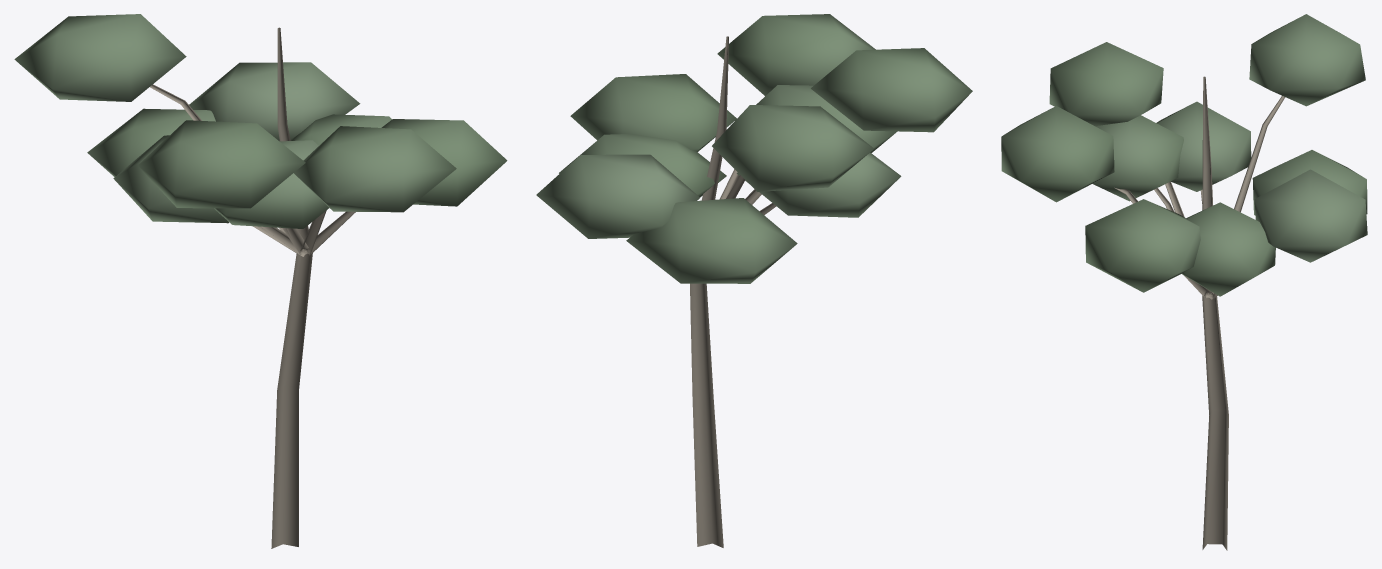
Rendered from aleppo_pine_2_far.glb.
The picture shows the model from 3 angles, left to right: view 1: azimuth 30°, elevation 25°; view 2: azimuth 150°, elevation 25°; view 3: azimuth 270°, elevation 25°; orthographic projection. The views are drawn at different scales.
Visible parts, largest first — view 1: geometry_0; view 2: geometry_0; view 3: geometry_0.
Boxes of the visible parts, x1=… form: geometry_0: x1=14, y1=14, x2=507, y2=548; geometry_0: x1=536, y1=14, x2=972, y2=547; geometry_0: x1=1001, y1=14, x2=1367, y2=550.
Size of the model in its own units: 7.16 by 9.89 by 7.03.
